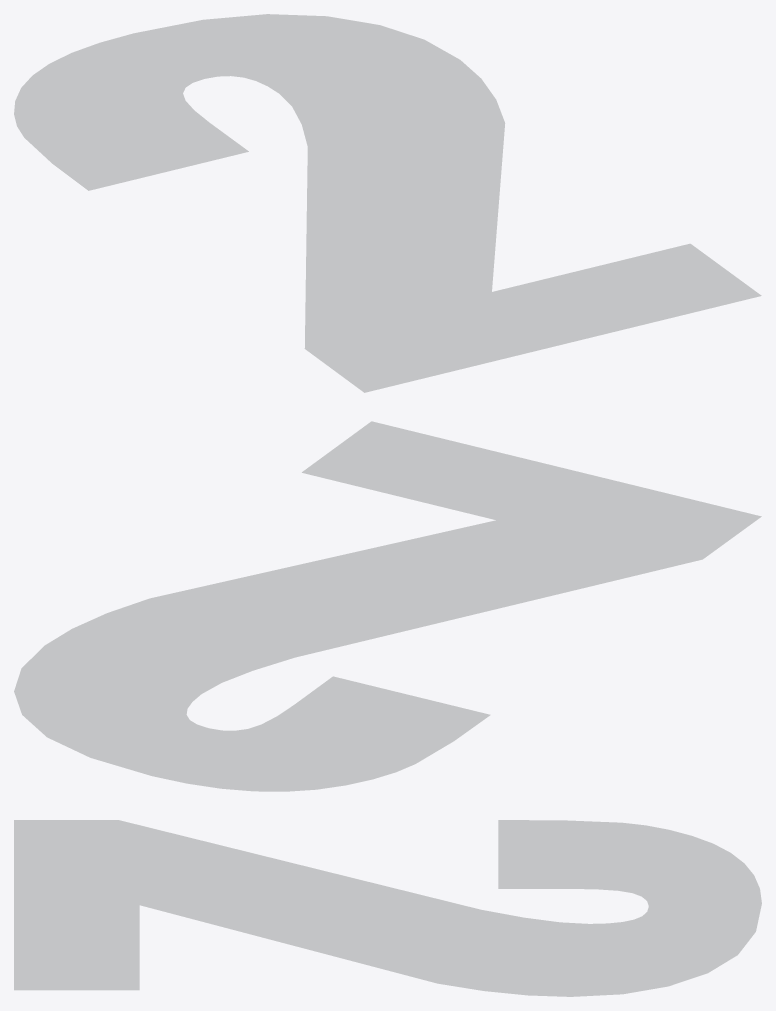
Rendered from Number_2.FBX.
3 views of the same model, one above another, from view 1: azimuth 30°, elevation 25°; view 2: azimuth 150°, elevation 25°; view 3: azimuth 270°, elevation 25° (orthographic). The views are drawn at different scales.
Parts seen in each view (by area): view 1: Number_2; view 2: Number_2; view 3: Number_2.
Boxes of the visible parts, bbox=[...] form: Number_2: bbox=[14, 14, 761, 392]; Number_2: bbox=[14, 421, 761, 791]; Number_2: bbox=[14, 820, 761, 996].
Size of the model in its own units: 3.42 by 2.67e-07 by 6.11.
1 material, 1 textured.
